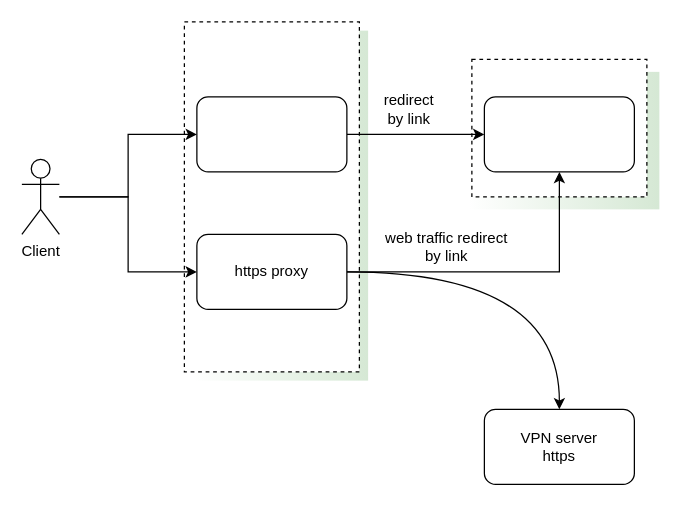
The diagram is 681 pixels wide and 506 high, and some of its shapes have lost their labels. Here are the shapes that lost their labels. From the top down, the box of each, then its label:
(196, 96, 347, 172): http proxy
(483, 96, 634, 172): https content server
